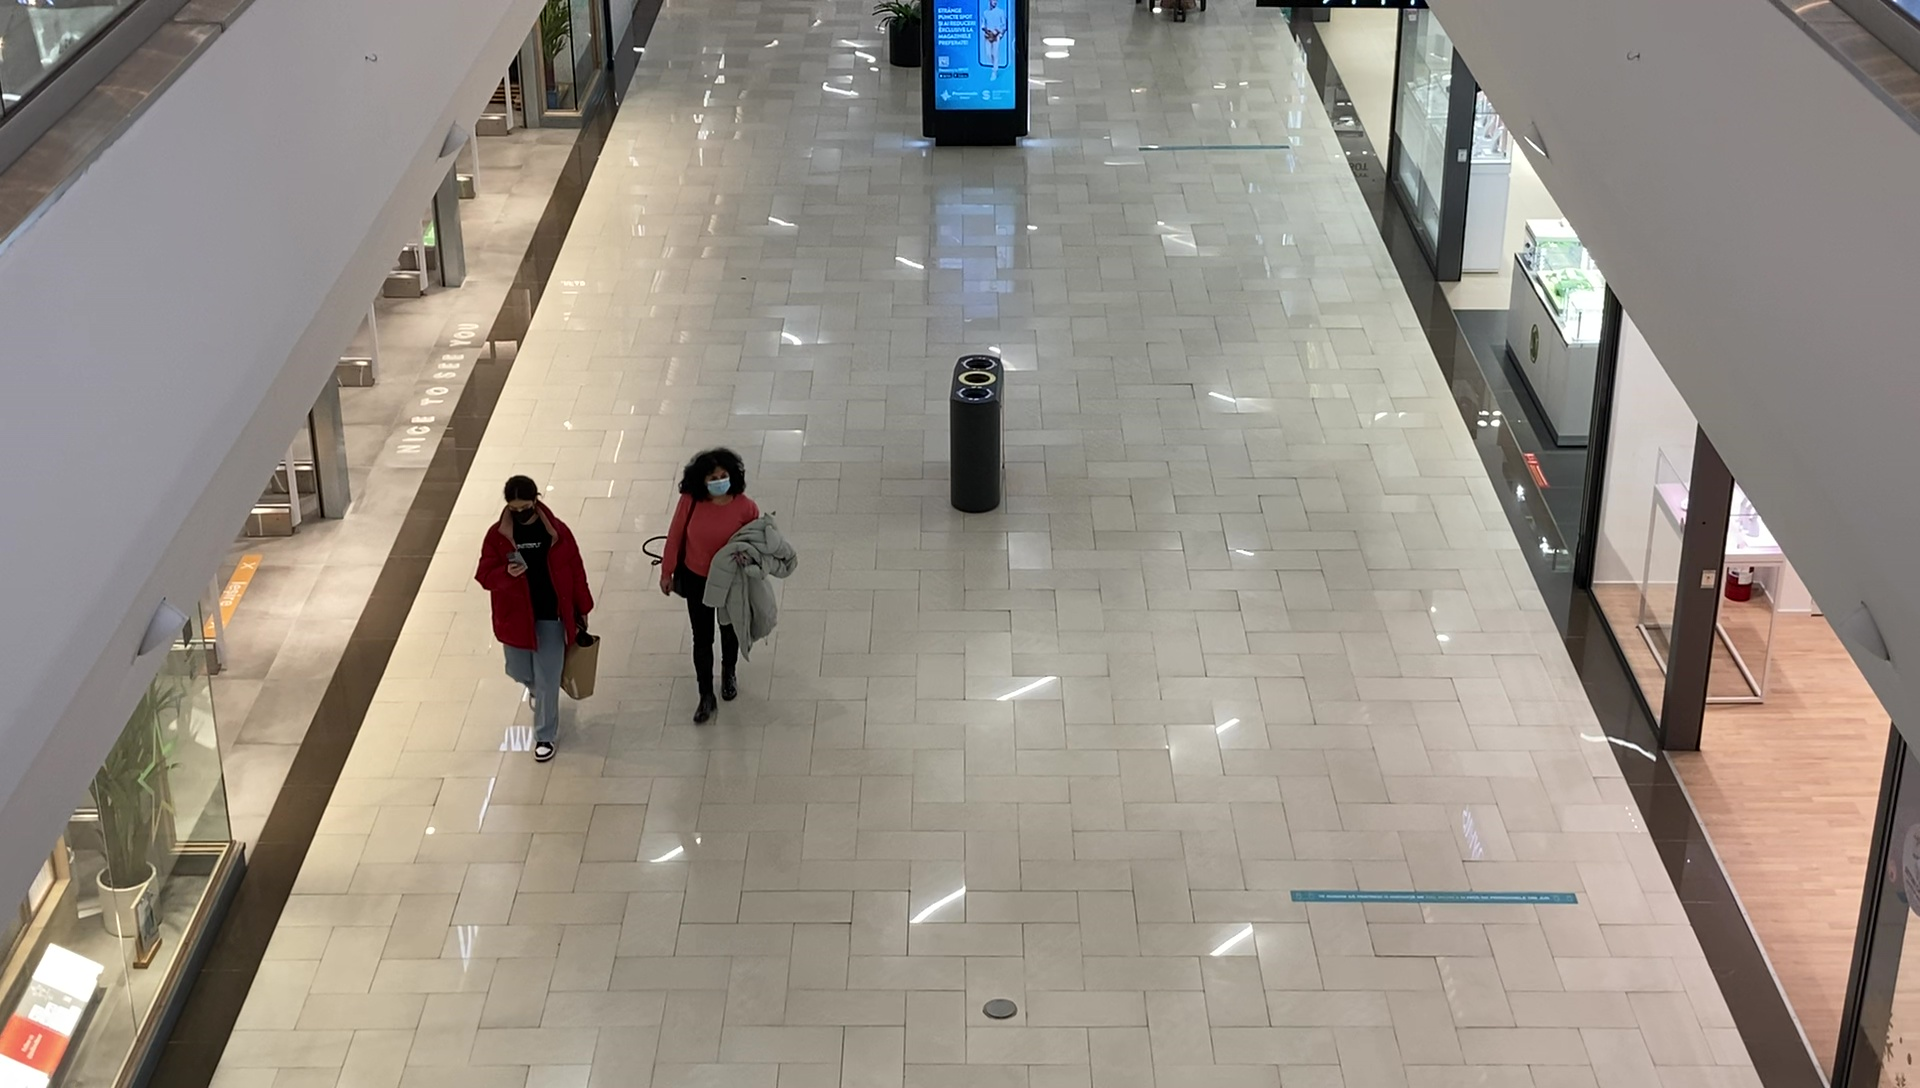person: (475, 476, 595, 763), (659, 448, 763, 727)
